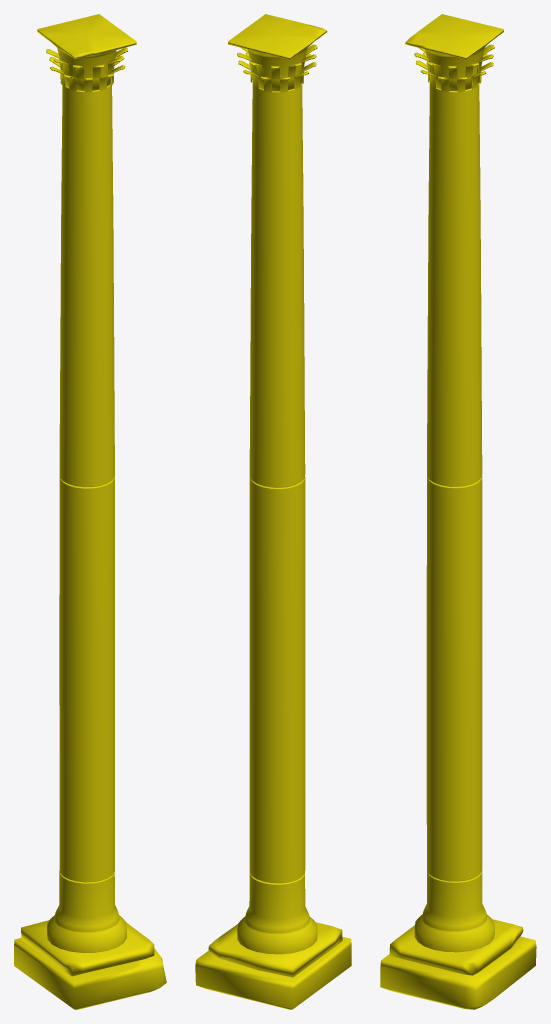
The model's file is Pillar_08_Lod0.fbx.
The picture shows the model from 3 angles, left to right: view 1: azimuth 30°, elevation 25°; view 2: azimuth 150°, elevation 25°; view 3: azimuth 330°, elevation 25°; orthographic projection.
Visible parts, largest first — view 1: Pillar_08_Lod0; view 2: Pillar_08_Lod0; view 3: Pillar_08_Lod0.
Part boxes in pixels (x1,y1,x2,y2): Pillar_08_Lod0: (14, 14, 166, 1009); Pillar_08_Lod0: (195, 14, 351, 1009); Pillar_08_Lod0: (380, 14, 536, 1009).
Bounding box in the file's own units: 563 × 5167 × 594.
